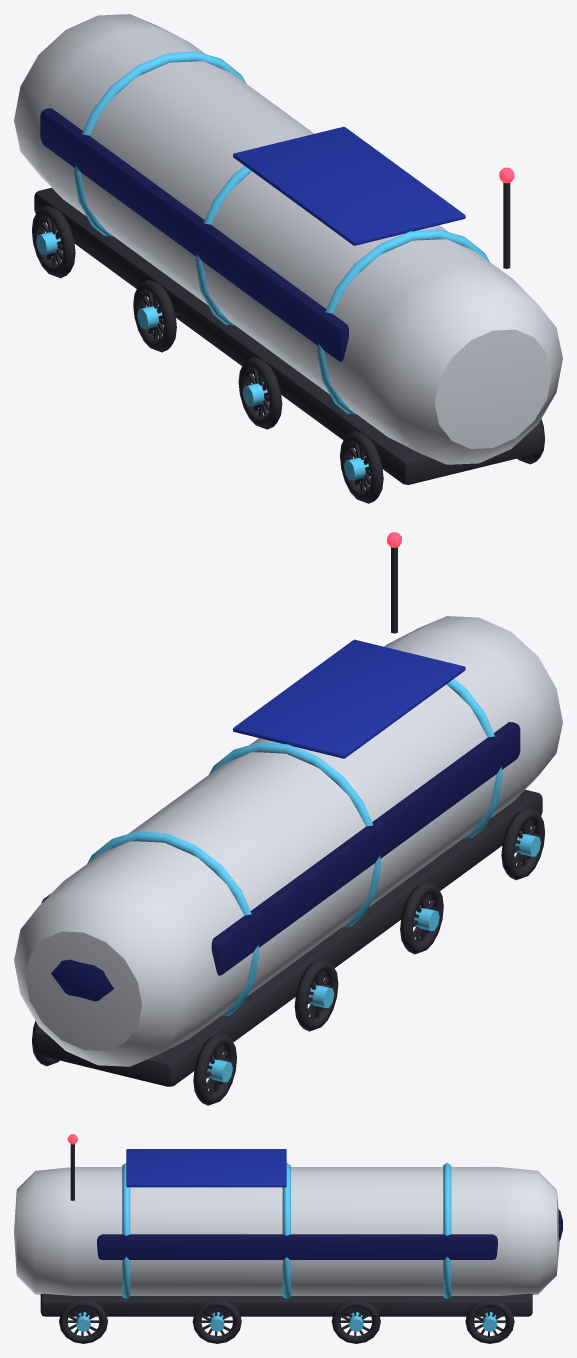
The model's file is moon_bus.glb.
The picture shows the model from 3 angles, top to bottom: view 1: azimuth 30°, elevation 25°; view 2: azimuth 150°, elevation 25°; view 3: azimuth 270°, elevation 25°; orthographic projection. The views are drawn at different scales.
Parts seen in each view (by area): view 1: Body, Wheel1LMesh, Wheel0LMesh, Wheel2LMesh, Wheel3LMesh; view 2: Body, Wheel3LMesh, Wheel2LMesh, Wheel0LMesh, Wheel1LMesh; view 3: Body, Wheel1RMesh, Wheel2RMesh, Wheel0RMesh, Wheel3RMesh.
Boxes of the visible parts, left/top/right/bottom form: Body: left=14, top=14, right=562, bottom=484; Wheel1LMesh: left=238, top=357, right=282, bottom=429; Wheel0LMesh: left=340, top=431, right=383, bottom=503; Wheel2LMesh: left=133, top=280, right=176, bottom=352; Wheel3LMesh: left=32, top=205, right=75, bottom=278; Body: left=14, top=532, right=562, bottom=1086; Wheel3LMesh: left=193, top=1033, right=236, bottom=1105; Wheel2LMesh: left=294, top=959, right=338, bottom=1031; Wheel0LMesh: left=501, top=807, right=544, bottom=880; Wheel1LMesh: left=400, top=881, right=443, bottom=954; Body: left=14, top=1134, right=562, bottom=1316; Wheel1RMesh: left=192, top=1299, right=241, bottom=1343; Wheel2RMesh: left=331, top=1299, right=380, bottom=1343; Wheel0RMesh: left=59, top=1299, right=107, bottom=1343; Wheel3RMesh: left=465, top=1299, right=514, bottom=1343.
Bounding box in the file's own units: 2.65 × 4.16 × 10.26.
